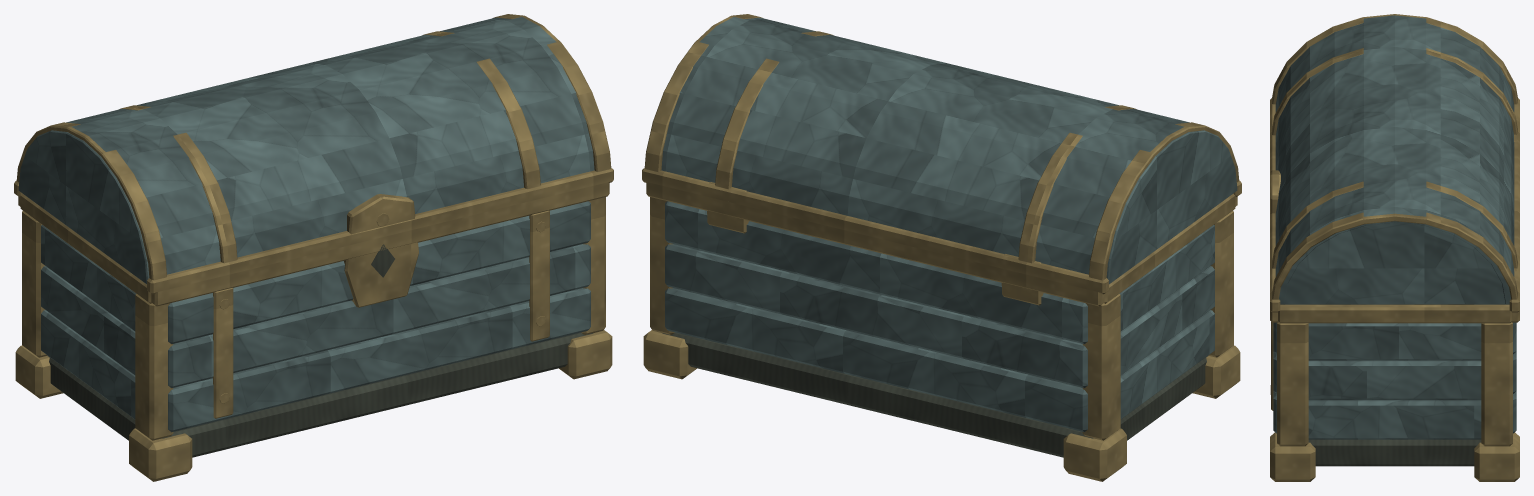
File: chamber-loot-cache-v1.glb
The picture shows the model from 3 angles, left to right: view 1: azimuth 30°, elevation 25°; view 2: azimuth 150°, elevation 25°; view 3: azimuth 270°, elevation 25°; orthographic projection. The views are drawn at different scales.
Parts seen in each view (by area): view 1: ChestLidSurface, ChestBodySurface; view 2: ChestBodySurface, ChestLidSurface; view 3: ChestLidSurface, ChestBodySurface.
Part boxes in pixels (x1,y1,x2,y2): ChestLidSurface: [14, 14, 613, 307]; ChestBodySurface: [15, 182, 612, 481]; ChestBodySurface: [643, 182, 1240, 481]; ChestLidSurface: [642, 14, 1241, 294]; ChestLidSurface: [1270, 14, 1519, 312]; ChestBodySurface: [1270, 134, 1519, 481].
Size of the model in its own units: 0.85 by 0.52 by 0.44.
Materials: 3 (3 with a texture image).
